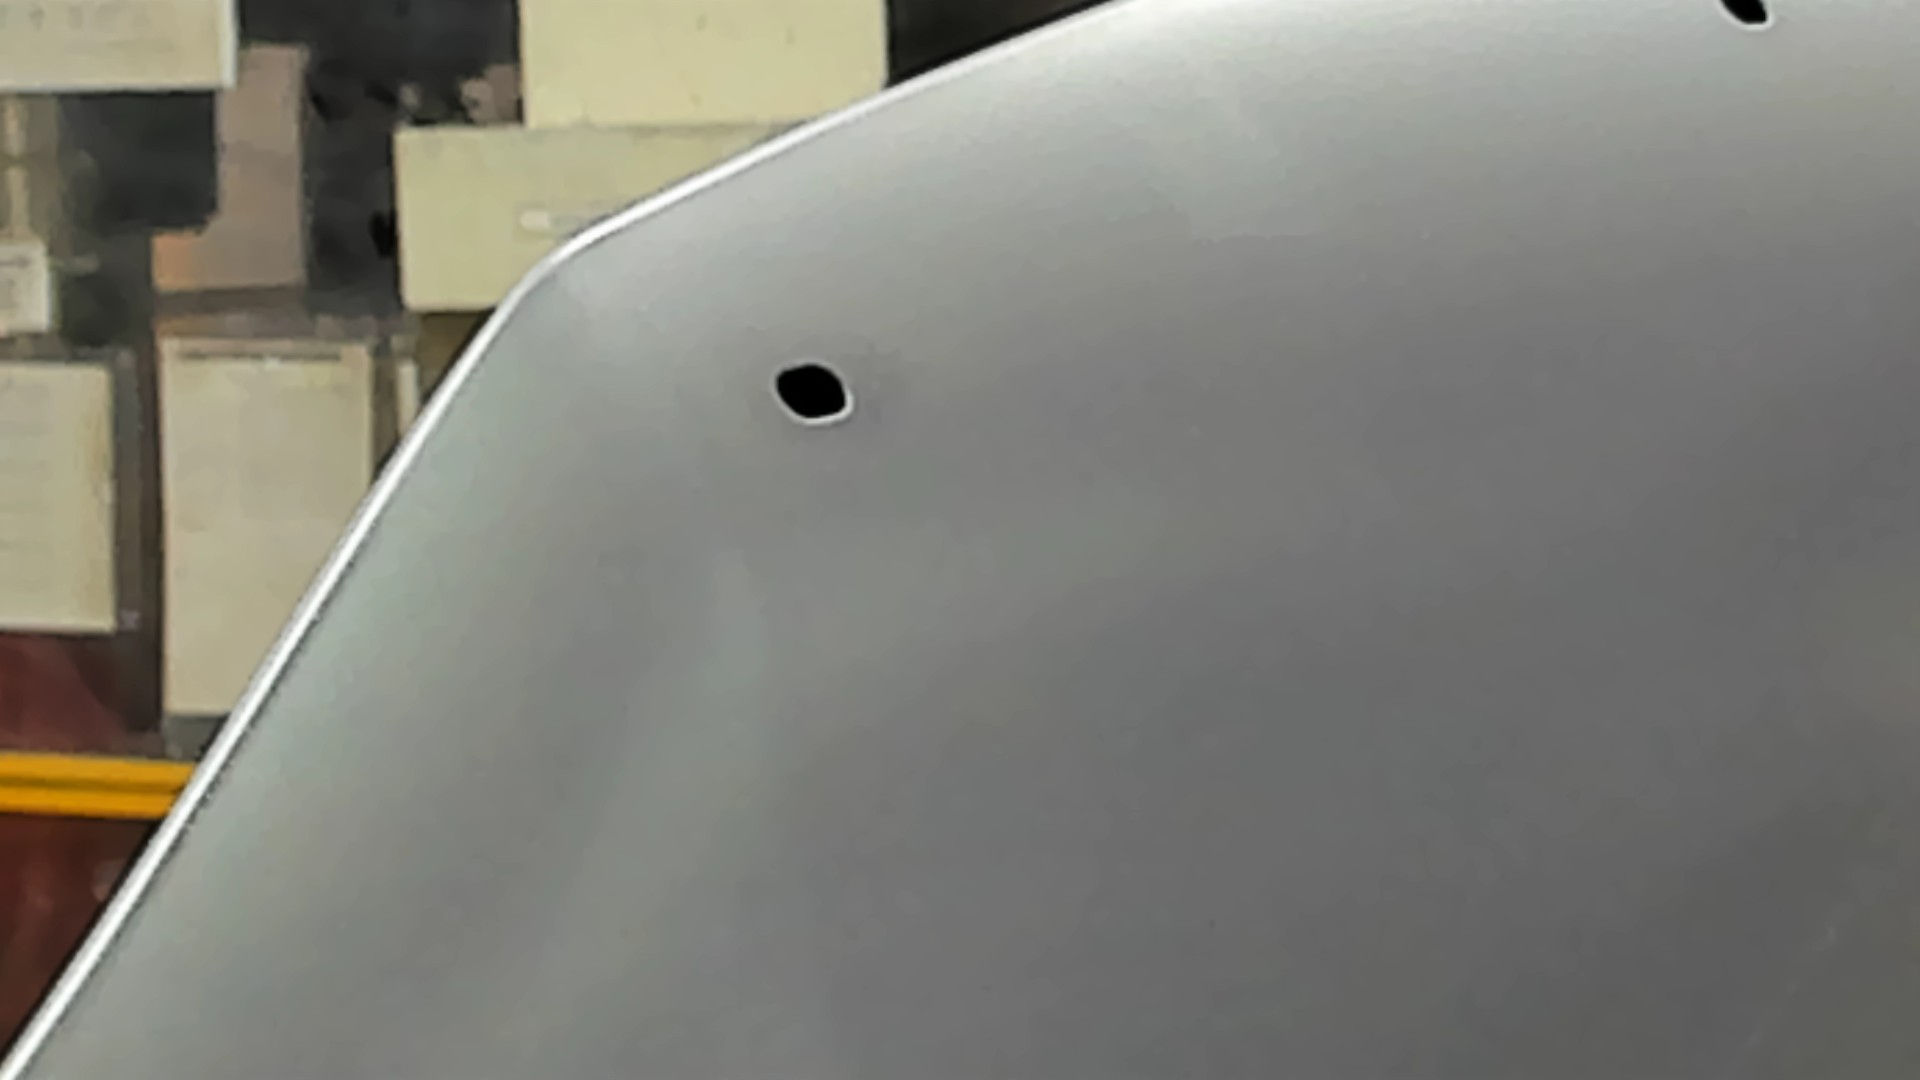amorfo: (770, 357, 861, 431), (1709, 1, 1778, 37)
capo: (955, 117, 1920, 1080)
